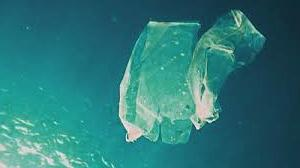Trash: (116, 17, 205, 153), (186, 9, 272, 132)
